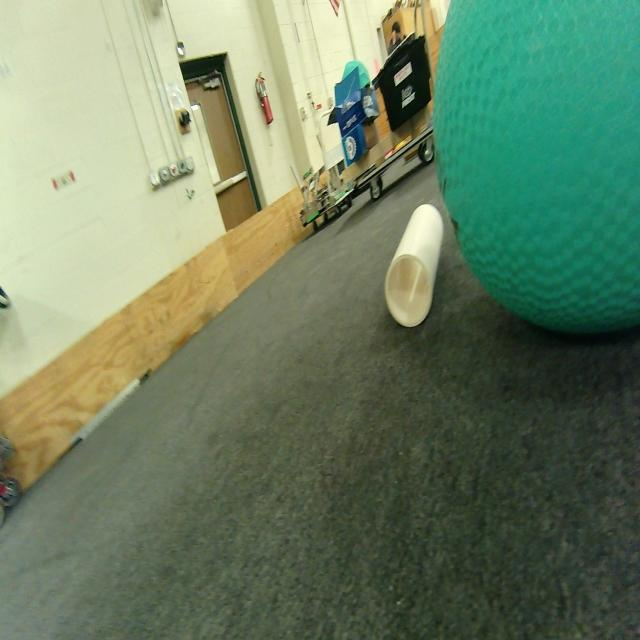algae: (425, 0, 640, 340)
coral: (379, 195, 448, 337)
